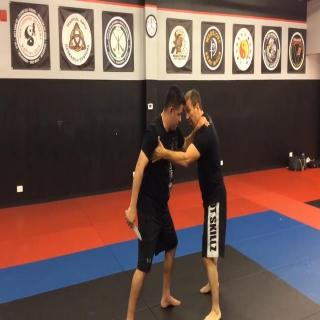knife: (124, 206, 144, 244)
